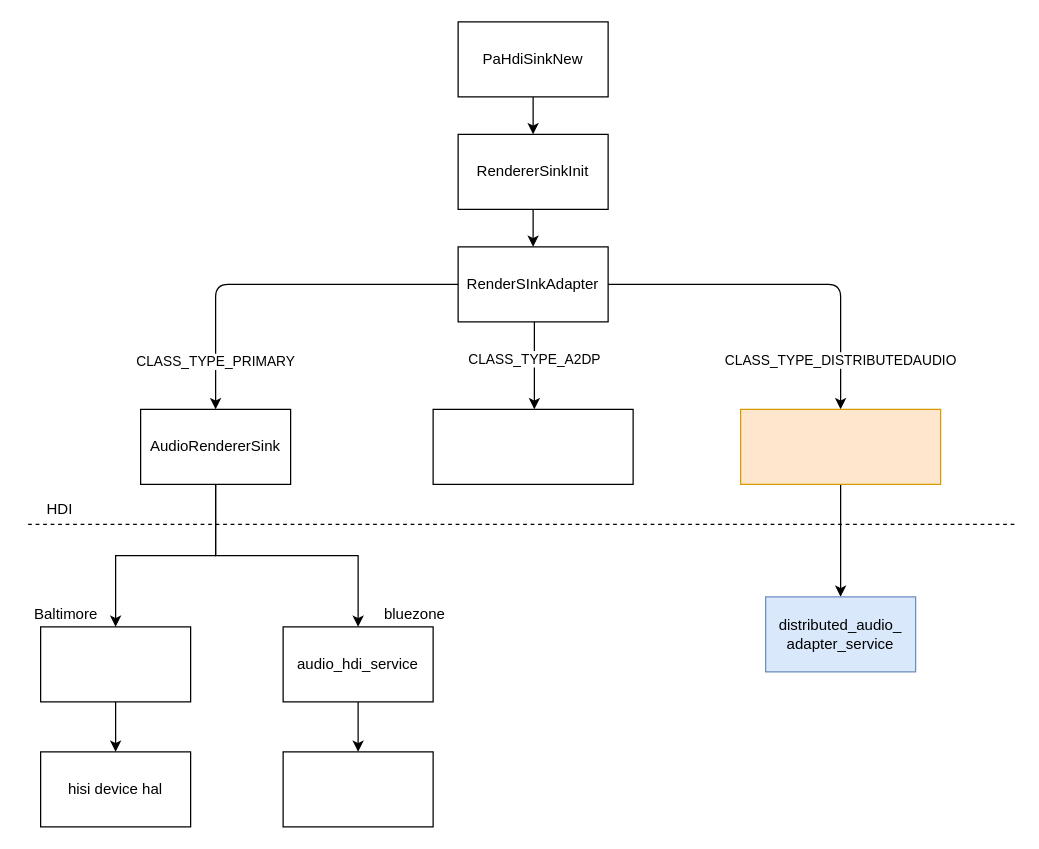
Some shapes in this 1039 by 849 pixel diagram are drawn without their labels. Each missing label, with the box of its shape:
audio_adapter_service: (39, 626, 191, 702)
BlutoothAudioRendererSink: (432, 408, 633, 484)
DistributedAudioRenderSink: (739, 408, 941, 484)
open device hdf: (282, 751, 433, 827)
